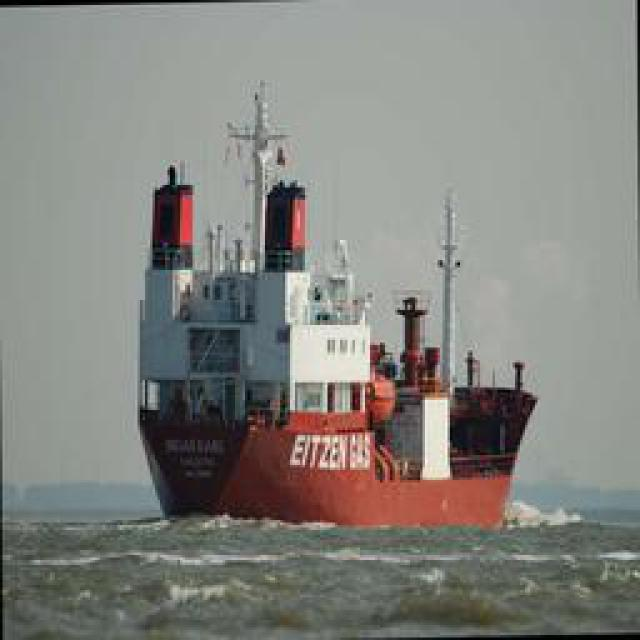Ship: (130, 217, 535, 530)
